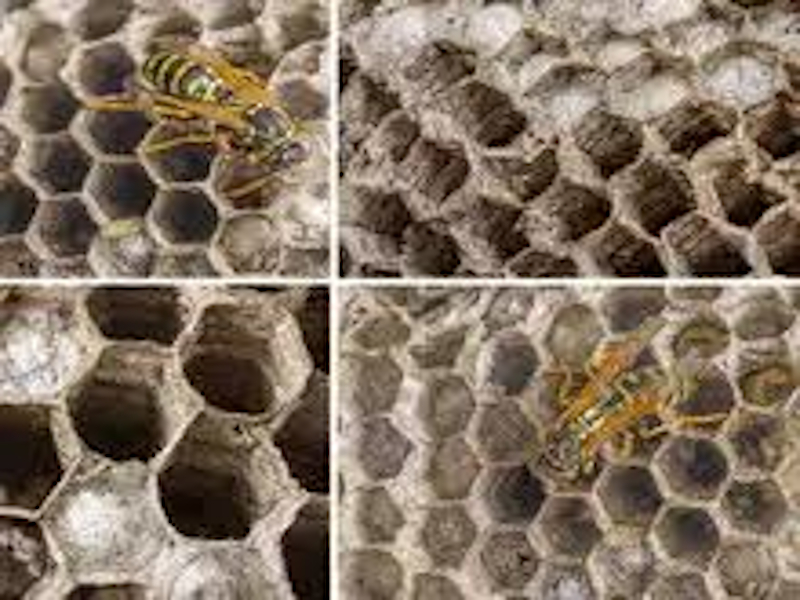abeja: (510, 315, 730, 495)
chax: (88, 34, 315, 189)
